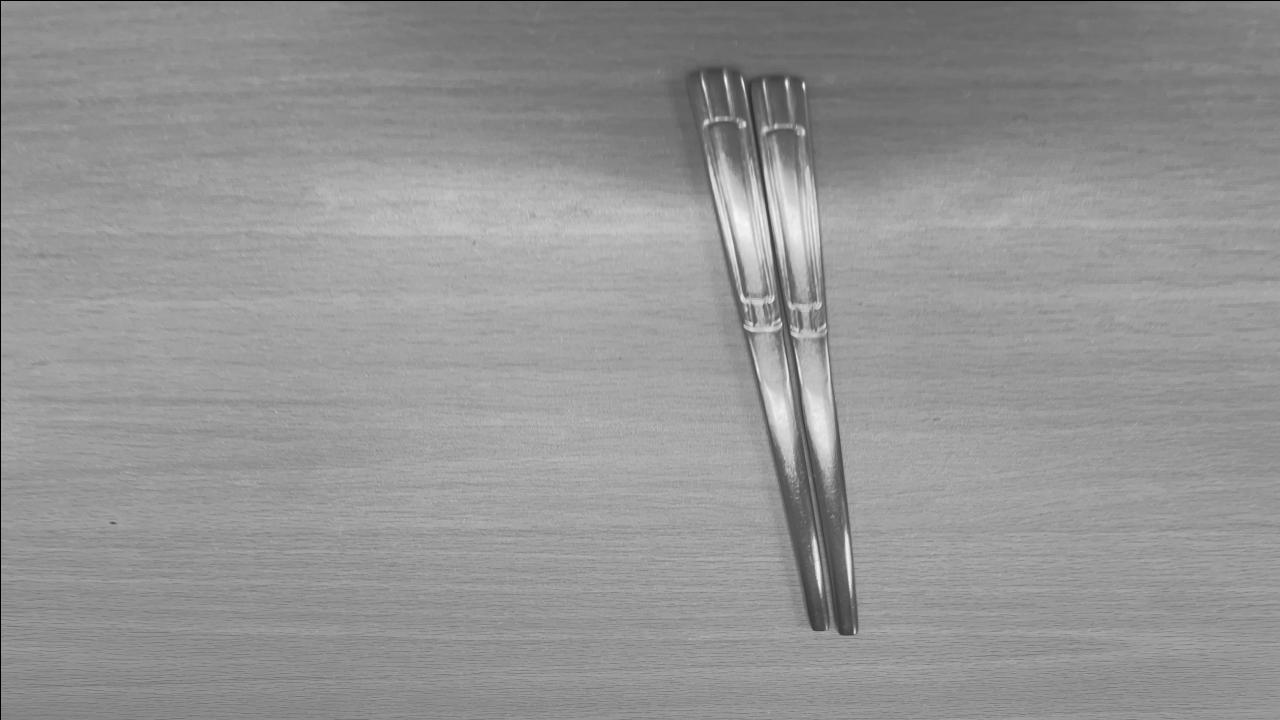chopstick: (685, 72, 855, 634)
